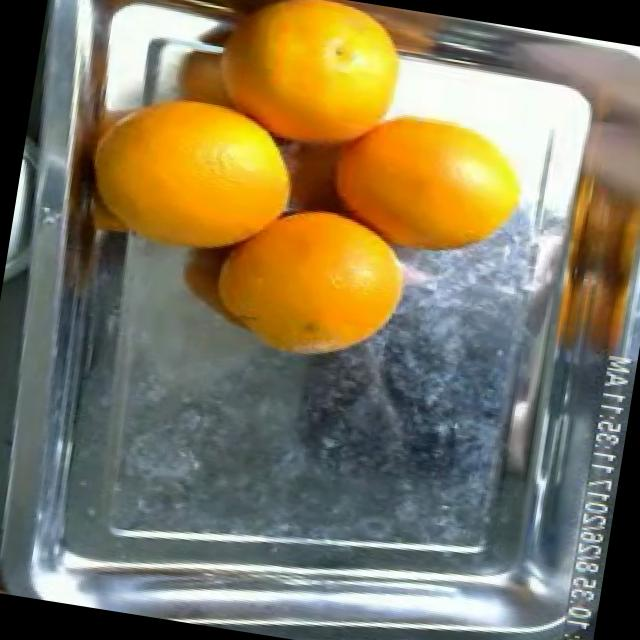Fruit: (323, 90, 558, 282), (210, 193, 430, 384)
